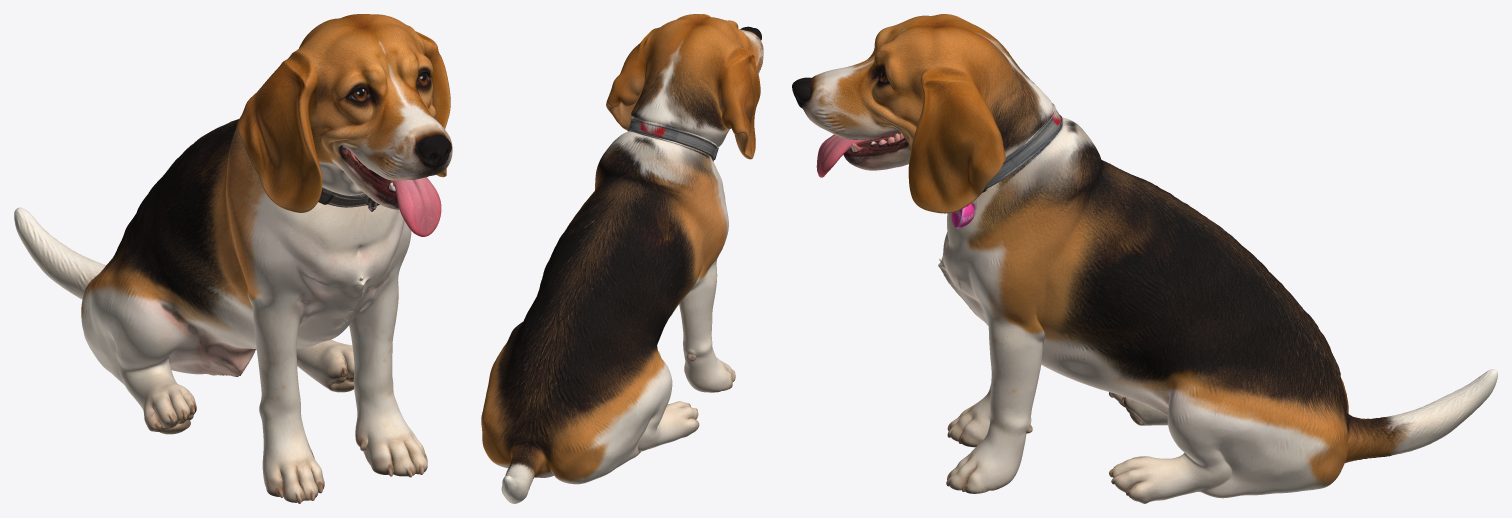
File: kiara_textura.glb
The picture shows the model from 3 angles, left to right: view 1: azimuth 30°, elevation 25°; view 2: azimuth 150°, elevation 25°; view 3: azimuth 270°, elevation 25°; orthographic projection. The views are drawn at different scales.
Size of the model in its own units: 0.655 by 1.29 by 1.9.
1 material, 1 textured.
